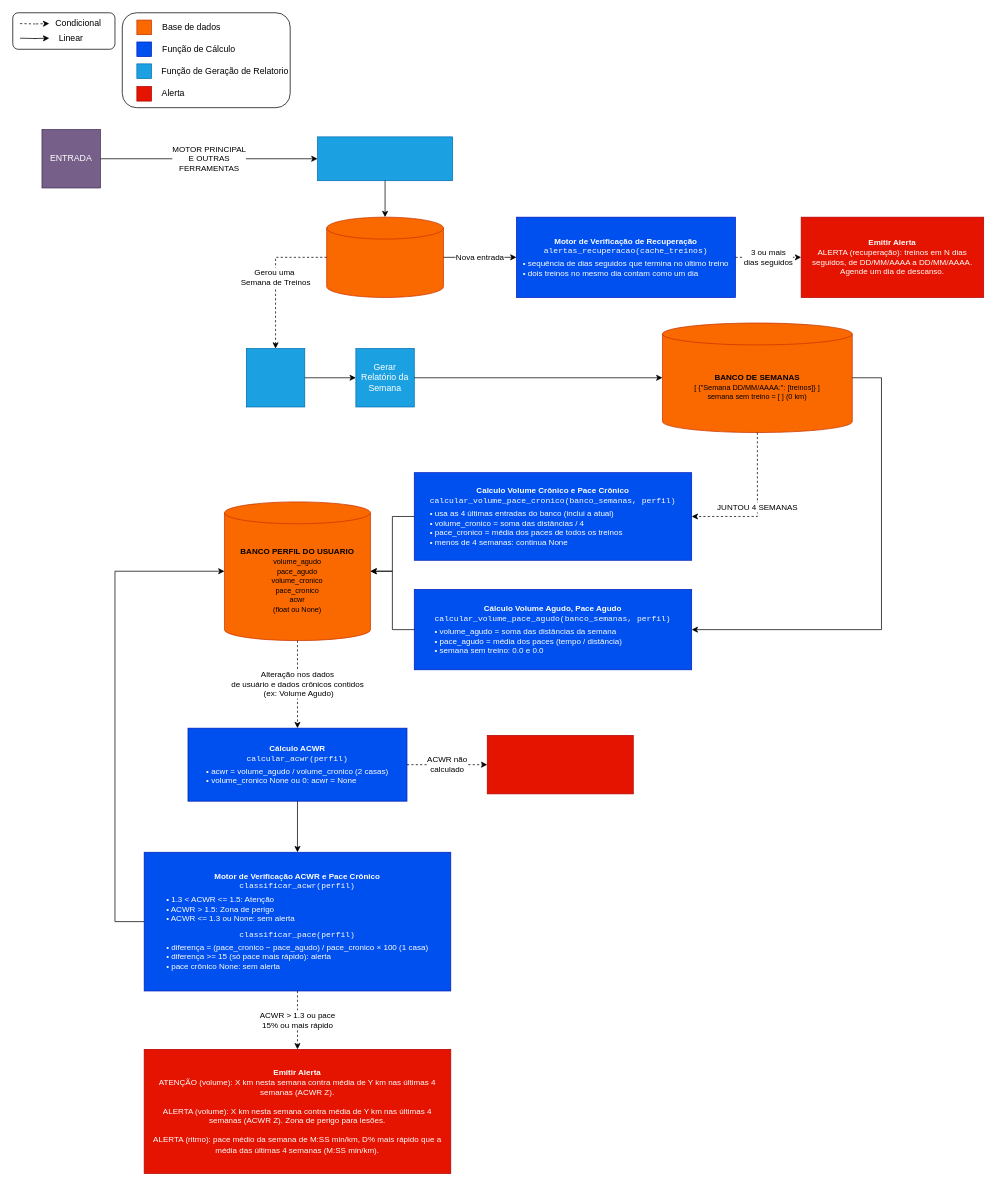
Some shapes in this 996 by 1186 pixel diagram are drawn without their labels. The shapes that lost their labels are listed below. From the top down, each one's centre as x and y in pixels, then its label:
(x=385, y=158): Gerar Relatório do Treino
(x=384, y=256): CACHE DE TREINOS [ {data, distancia, tempo} ]
(x=275, y=377): Limpar Cache
(x=560, y=764): Emitir Alerta Sem base de comparação
